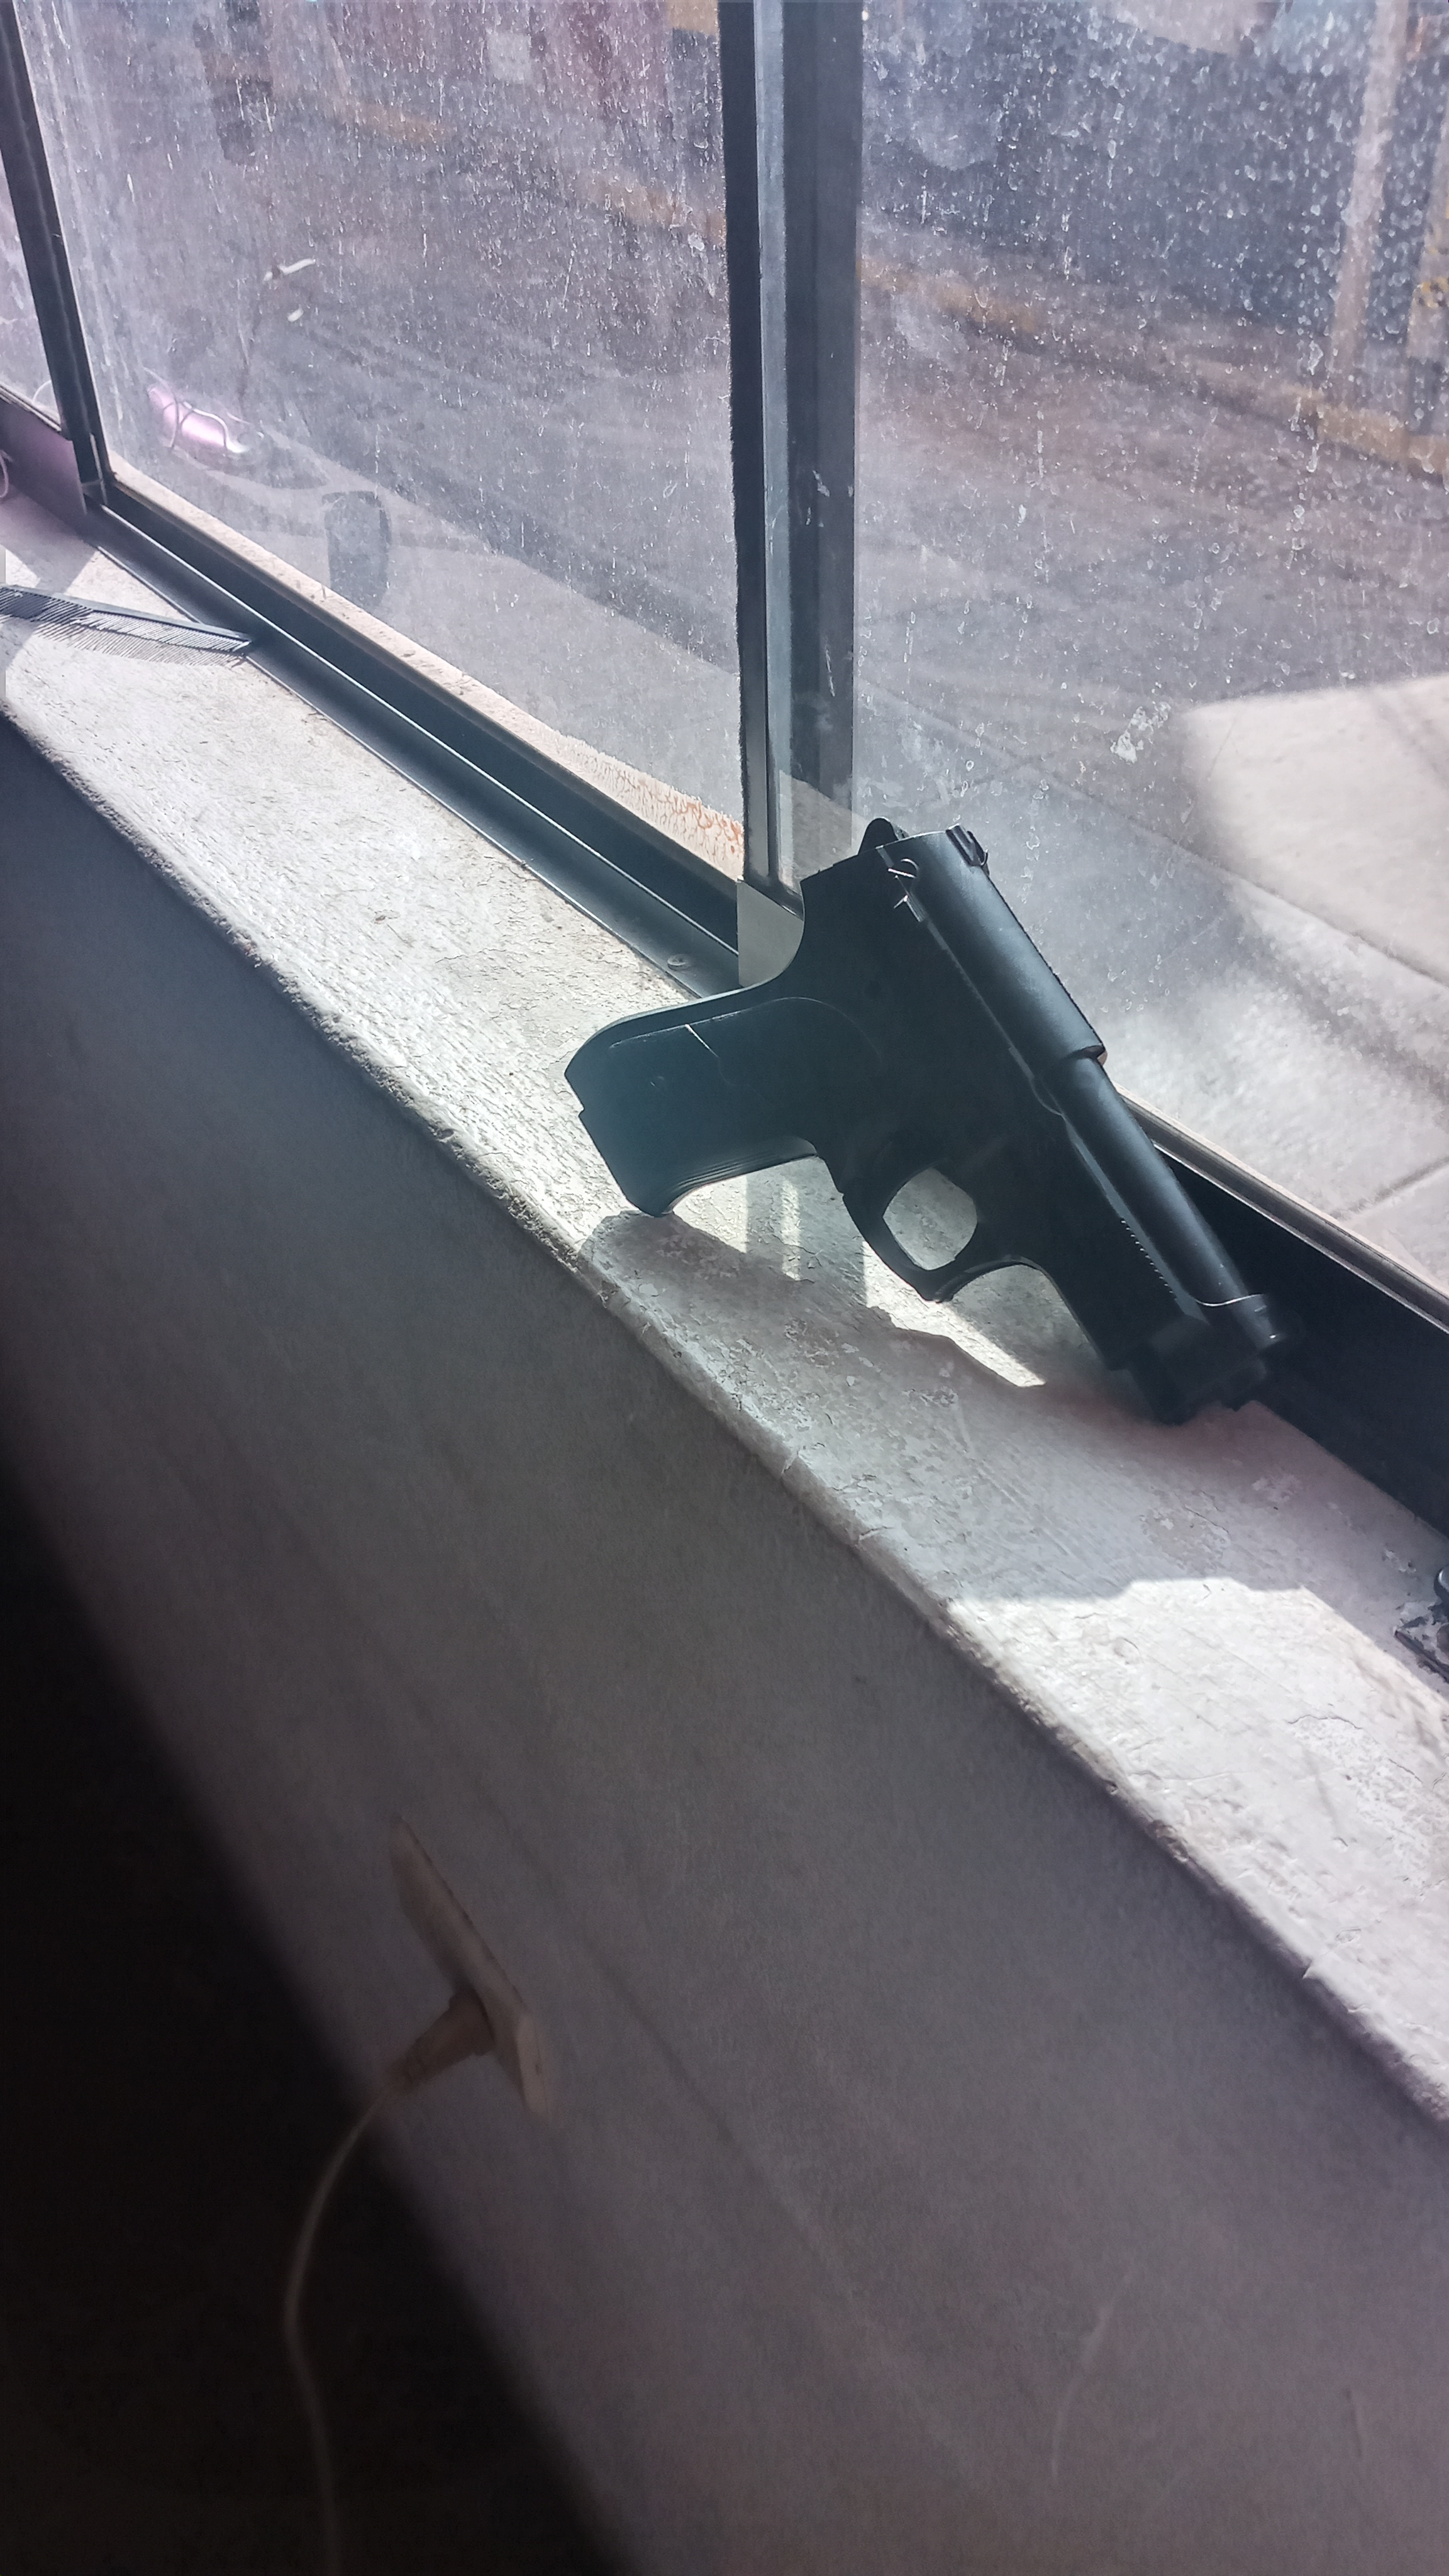Arma: (619, 855, 1297, 1417)
